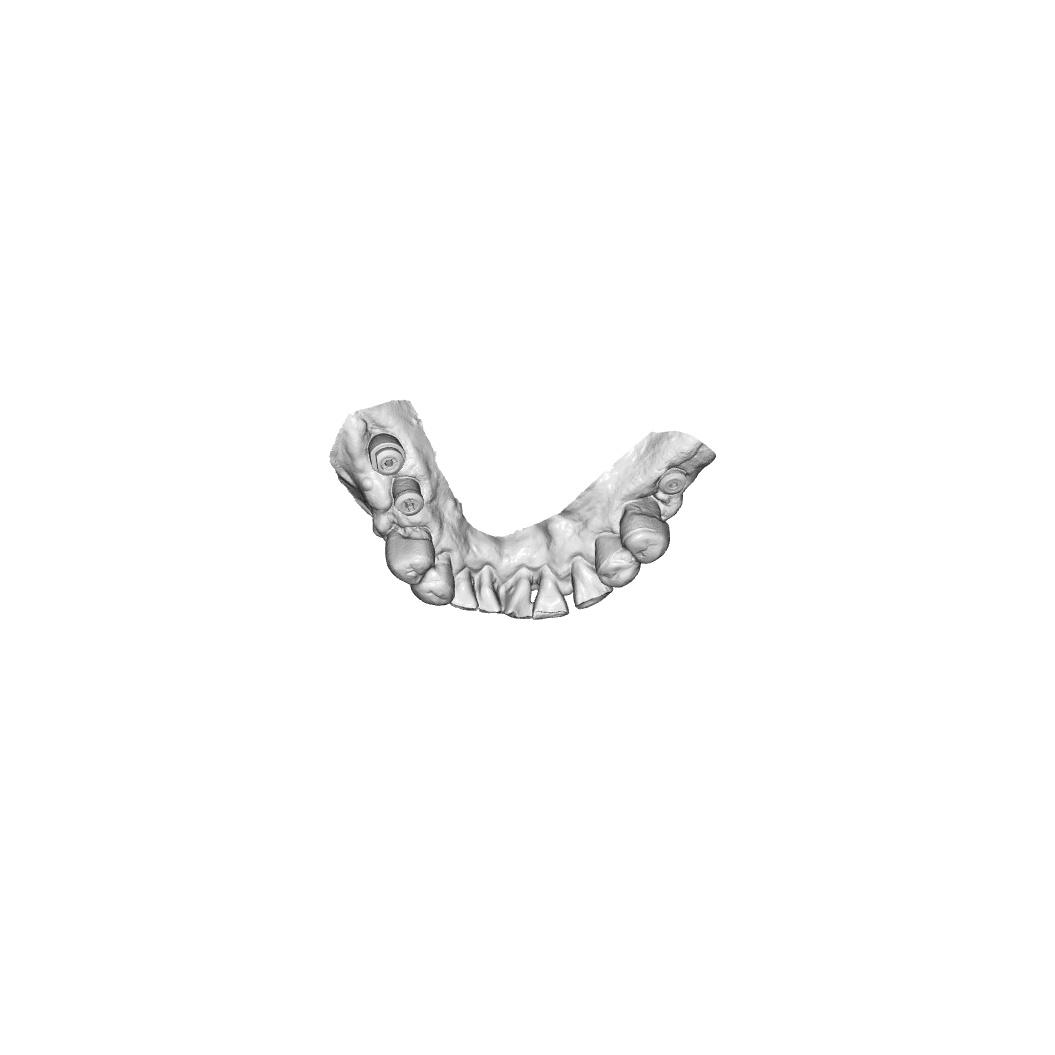canine: (410, 553, 455, 607), (570, 555, 614, 610)
implant: (656, 467, 688, 495)
implant_minus: (367, 432, 407, 477), (391, 476, 425, 517)
incisor: (531, 565, 570, 621), (503, 568, 534, 620), (473, 564, 502, 615), (449, 565, 479, 612)
premolar: (619, 495, 671, 564), (384, 525, 436, 586), (594, 532, 641, 588)
